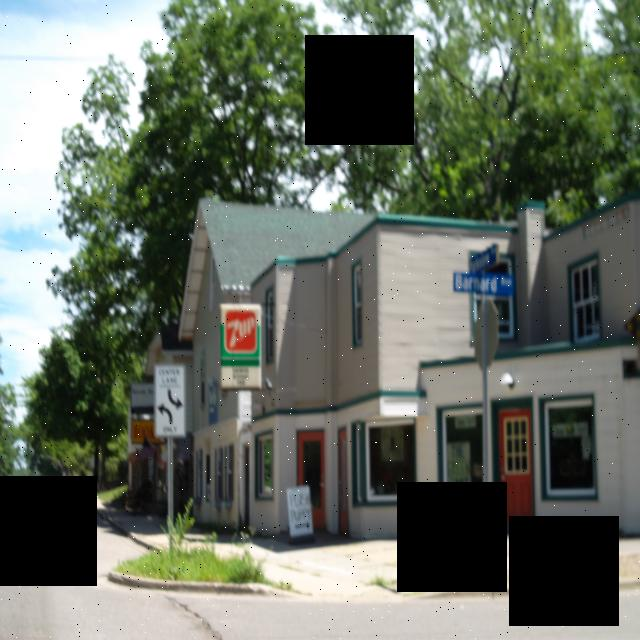regulatory: (154, 359, 190, 436), (153, 361, 188, 439)
